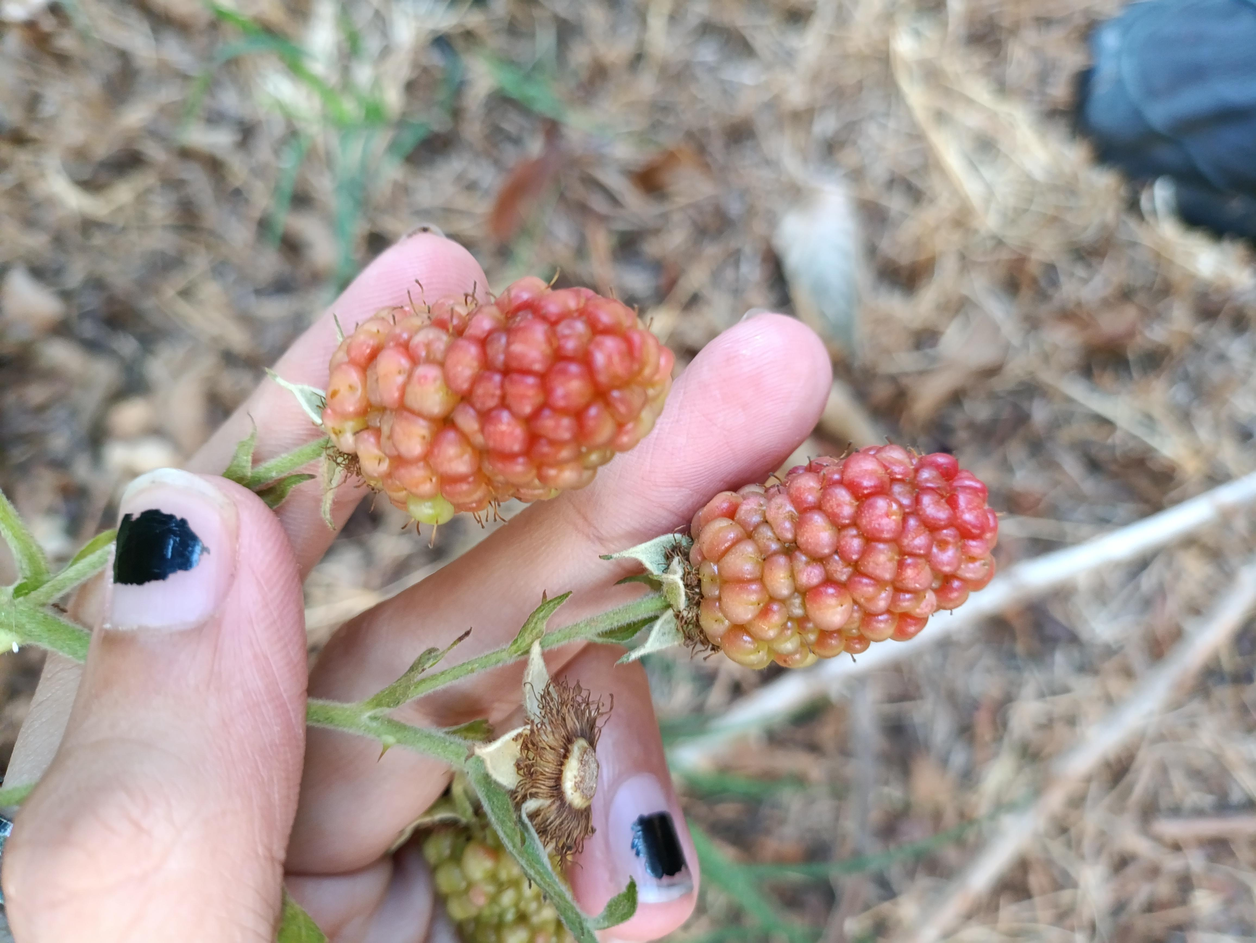naranja: (314, 278, 673, 525), (685, 446, 998, 667)
